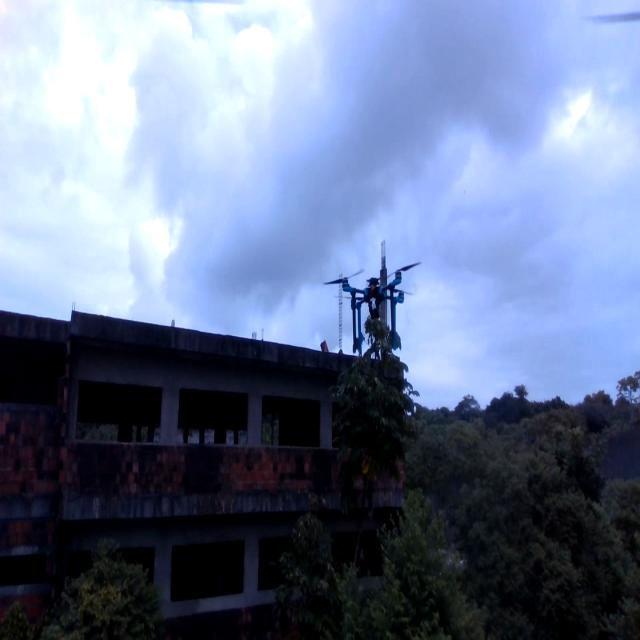-uav-: (320, 234, 427, 350)
